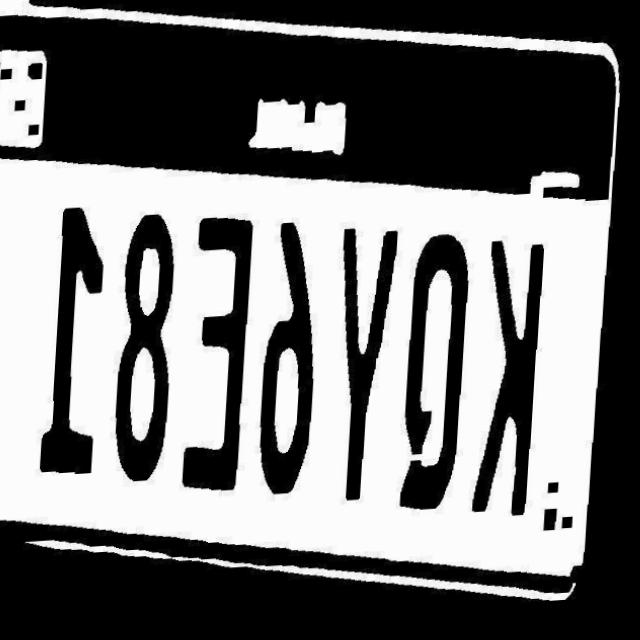1: (40, 203, 114, 482)
6: (258, 222, 329, 506)
8: (115, 211, 184, 491)
e: (183, 211, 260, 500)
k: (474, 233, 556, 528)
q: (399, 235, 480, 521)
y: (327, 226, 407, 511)
